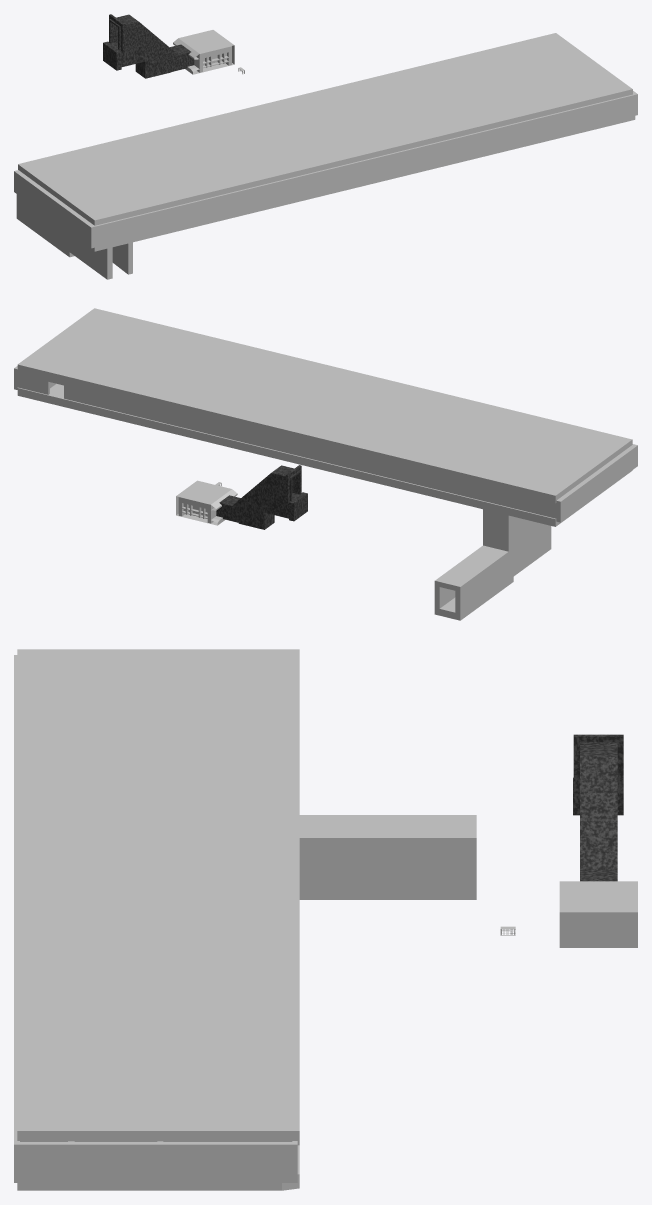
The model's file is AmmoStand.fbx.
3 views of the same model, one above another, from view 1: azimuth 30°, elevation 25°; view 2: azimuth 150°, elevation 25°; view 3: azimuth 270°, elevation 25° (orthographic). The views are drawn at different scales.
Parts seen in each view (by area): view 1: Cube.005, Cube, Cube.004, Cube.007, Cube.001; view 2: Cube.005, Cube.004, Cube, Cube.007, Cube.001; view 3: Cube.005, Cube.004, Cube, Cube.007, Cube.001.
Boxes of the visible parts, bbox=[...] form: Cube.005: bbox=[18, 33, 632, 225]; Cube: bbox=[14, 91, 637, 248]; Cube.004: bbox=[16, 116, 635, 279]; Cube.007: bbox=[103, 14, 194, 78]; Cube.001: bbox=[173, 30, 234, 74]; Cube.005: bbox=[17, 308, 632, 503]; Cube.004: bbox=[17, 383, 632, 620]; Cube: bbox=[14, 366, 637, 522]; Cube.007: bbox=[216, 465, 307, 529]; Cube.001: bbox=[176, 480, 237, 525]; Cube.005: bbox=[17, 649, 299, 1145]; Cube.004: bbox=[17, 815, 476, 1190]; Cube: bbox=[14, 655, 297, 1182]; Cube.007: bbox=[573, 734, 623, 881]; Cube.001: bbox=[559, 881, 637, 947].
Bounding box in the file's own units: 14779 × 3673 × 7959.
